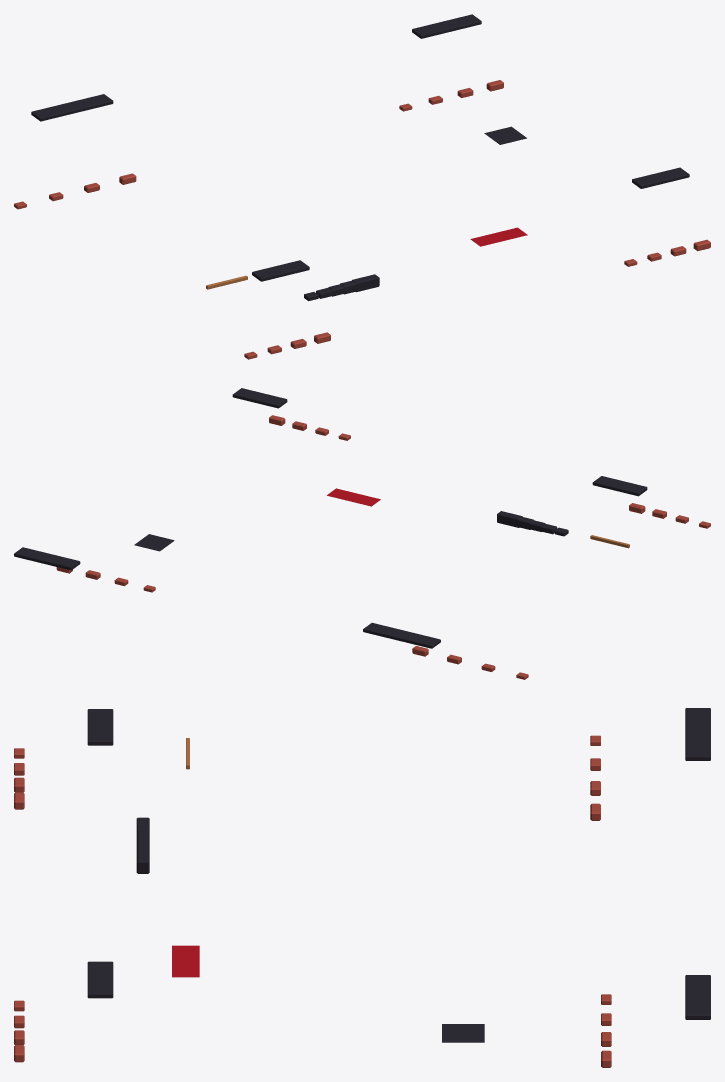
File: D-SHOP.w5.glb
3 renders of one model, top to bottom at view 1: azimuth 30°, elevation 25°; view 2: azimuth 150°, elevation 25°; view 3: azimuth 270°, elevation 25°, orthographic. The views are drawn at different scales.
Visible parts, largest first — view 1: pal_uiDark.002, pal_brick.003; view 2: pal_uiDark.002, pal_brick.003, pal_blood.003; view 3: pal_uiDark.002, pal_brick.003, pal_blood.003.
Boxes of the visible parts, x1,y1,x2,y2 form: pal_uiDark.002: (31,14,689,301); pal_brick.003: (14,80,710,359); pal_uiDark.002: (14,388,647,648); pal_brick.003: (56,415,710,679); pal_blood.003: (327,488,380,506); pal_uiDark.002: (87,708,710,1042); pal_brick.003: (14,735,611,1067); pal_blood.003: (172,945,199,977).
Bounding box in the file's own units: 36.8 × 3.87 × 32.65.
